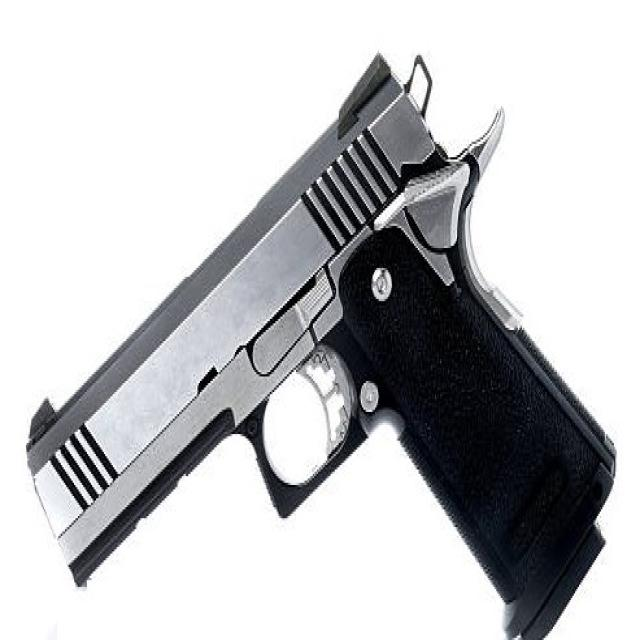pistol: (23, 38, 618, 640)
